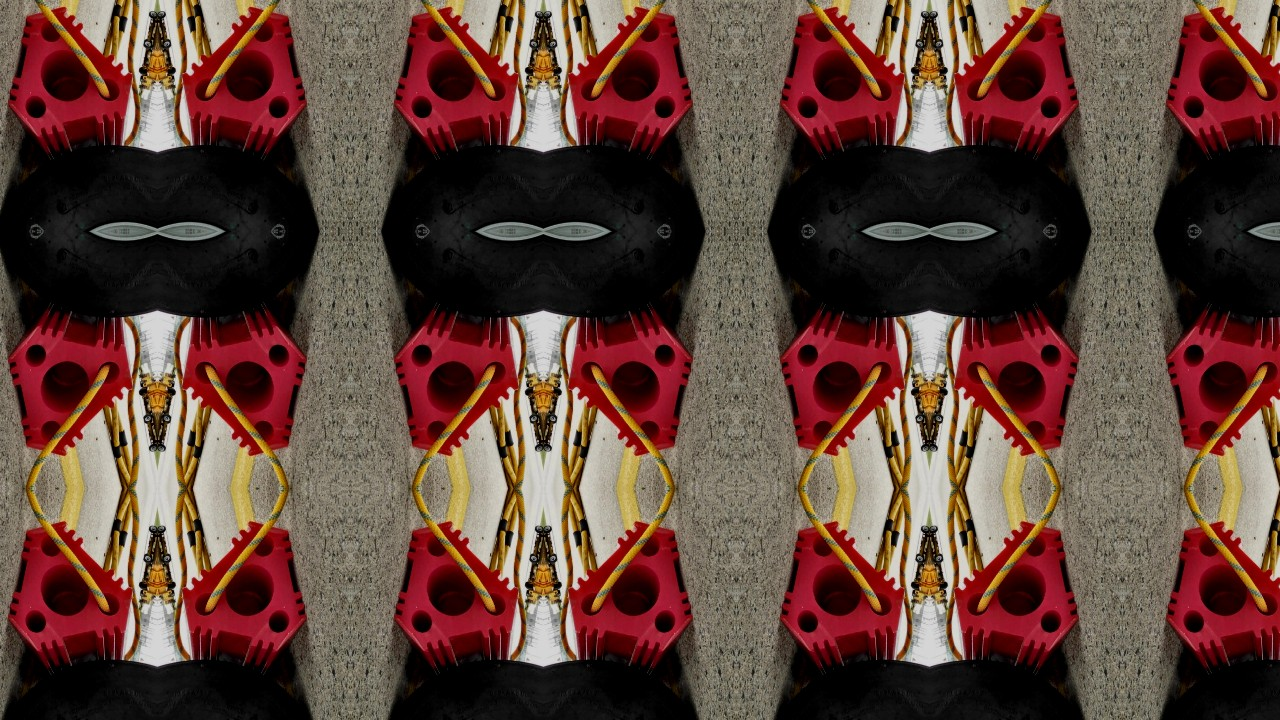chock: (549, 509, 704, 708), (769, 509, 924, 708), (549, 270, 704, 468), (769, 270, 924, 468), (163, 509, 317, 708), (383, 509, 537, 708), (936, 509, 1090, 708), (163, 270, 317, 468), (383, 270, 537, 468), (936, 270, 1090, 468), (0, 509, 151, 708), (549, 0, 704, 193), (769, 0, 924, 193), (0, 270, 151, 468), (163, 0, 317, 193), (383, 0, 537, 193), (936, 0, 1090, 193), (0, 0, 151, 193), (1156, 509, 1280, 708), (1156, 270, 1280, 468), (1156, 0, 1280, 193)
wheel: (543, 100, 709, 231), (764, 100, 930, 231), (543, 231, 709, 362), (764, 231, 930, 362), (157, 100, 322, 231), (378, 100, 543, 231), (930, 100, 1095, 231), (157, 231, 322, 362), (378, 231, 543, 362), (930, 231, 1095, 362), (0, 100, 157, 231), (0, 231, 157, 362), (543, 615, 709, 720), (764, 615, 930, 720), (157, 615, 322, 720), (378, 615, 543, 720), (930, 615, 1095, 720), (1151, 100, 1280, 231), (1151, 231, 1280, 362), (0, 615, 157, 720), (1151, 615, 1280, 720), (142, 412, 153, 424), (160, 412, 171, 424), (529, 412, 540, 424), (547, 412, 558, 424), (915, 412, 926, 424), (933, 412, 944, 424), (142, 39, 153, 50), (160, 39, 171, 50), (529, 39, 540, 50), (547, 39, 558, 50), (915, 39, 926, 50), (933, 39, 944, 50), (142, 554, 153, 565), (160, 554, 171, 565), (529, 554, 540, 565), (547, 554, 558, 565), (915, 554, 926, 565), (933, 554, 944, 565), (138, 66, 148, 76), (147, 10, 157, 20), (165, 66, 175, 76), (525, 66, 535, 76), (552, 66, 562, 76), (543, 10, 553, 20), (911, 66, 921, 76), (920, 10, 930, 20), (938, 66, 948, 76), (138, 386, 148, 396), (165, 386, 175, 396), (525, 386, 535, 396), (552, 386, 562, 396), (911, 386, 921, 396), (938, 386, 948, 396), (138, 581, 148, 591), (147, 525, 157, 535), (165, 581, 175, 591), (525, 581, 535, 591), (552, 581, 562, 591), (543, 525, 553, 535), (911, 581, 921, 591), (920, 525, 930, 535), (938, 581, 948, 591), (157, 10, 166, 20), (534, 10, 543, 20), (930, 10, 939, 20), (147, 443, 157, 452), (543, 443, 553, 452), (920, 443, 930, 452), (157, 525, 166, 535), (534, 525, 543, 535), (930, 525, 939, 535), (138, 76, 147, 85), (166, 76, 175, 85), (525, 76, 534, 85), (553, 76, 562, 85), (911, 76, 920, 85), (939, 76, 948, 85), (157, 443, 166, 452), (534, 443, 543, 452), (930, 443, 939, 452), (138, 591, 147, 600), (166, 591, 175, 600), (525, 591, 534, 600), (553, 591, 562, 600), (911, 591, 920, 600), (939, 591, 948, 600), (138, 378, 147, 386), (166, 378, 175, 386), (525, 378, 534, 386), (553, 378, 562, 386), (911, 378, 920, 386), (939, 378, 948, 386)
